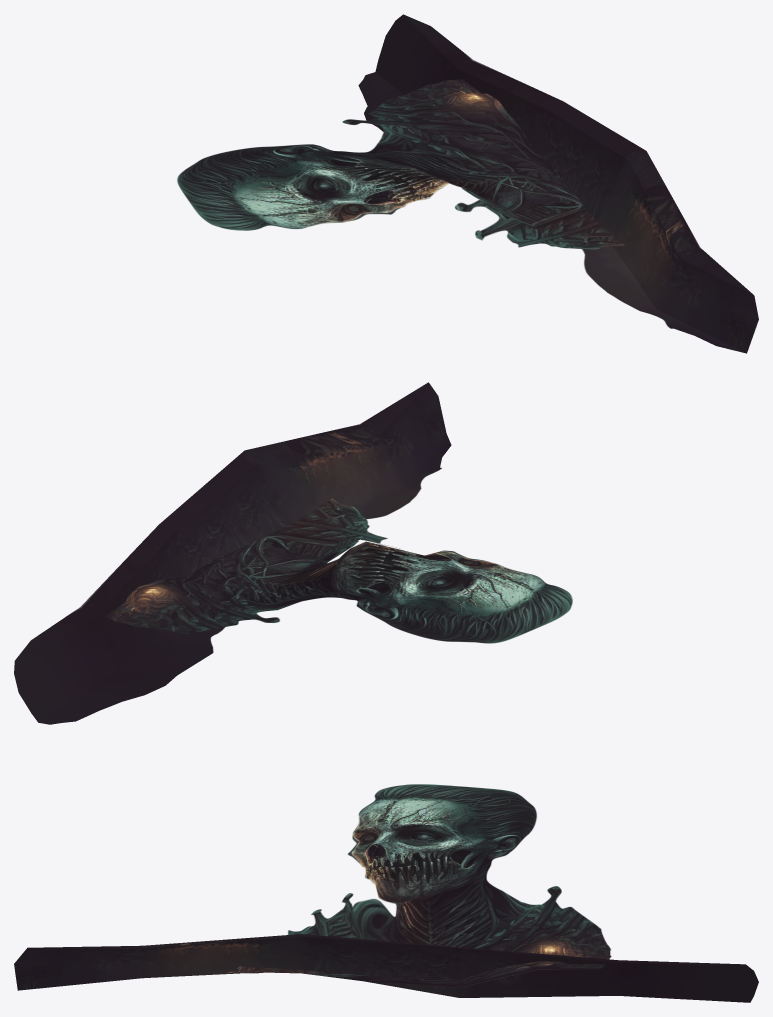
File: mainPage1.glb
3 renders of one model, top to bottom at view 1: azimuth 30°, elevation 25°; view 2: azimuth 150°, elevation 25°; view 3: azimuth 270°, elevation 25°, orthographic. The views are drawn at different scales.
Visible parts, largest first — view 1: MainPageBot; view 2: MainPageBot; view 3: MainPageBot.
Part boxes in pixels (<box>): MainPageBot: <box>177,14,758,353</box>; MainPageBot: <box>14,382,572,724</box>; MainPageBot: <box>14,784,758,1002</box>.
Bounding box in the file's own units: 0.6417 × 0.1212 × 0.9393.
Materials: 2 (2 with a texture image).
